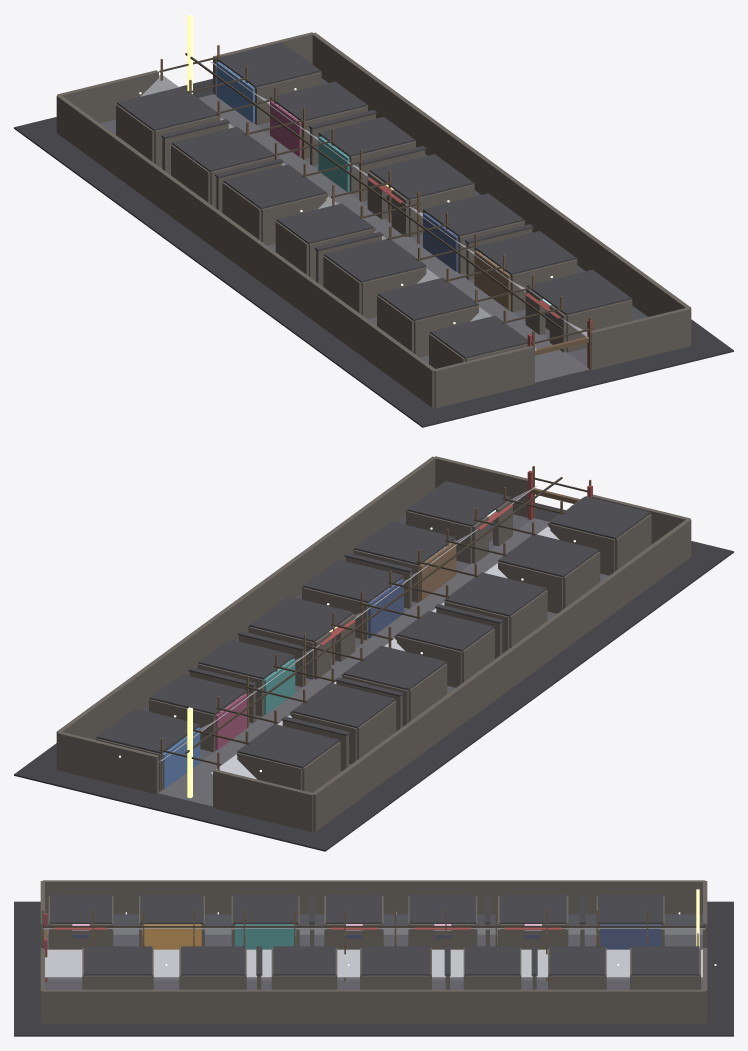
Rendered from prop_course_c.glb.
The picture shows the model from 3 angles, top to bottom: view 1: azimuth 30°, elevation 25°; view 2: azimuth 150°, elevation 25°; view 3: azimuth 270°, elevation 25°; orthographic projection. The views are drawn at different scales.
Parts seen in each view (by area): view 1: course_c; view 2: course_c; view 3: course_c.
Boxes of the visible parts, x1,y1,x2,y2 form: course_c: (14, 14, 733, 427); course_c: (14, 456, 733, 851); course_c: (14, 880, 733, 1036).
Size of the model in its own units: 44 by 12.2 by 100.
